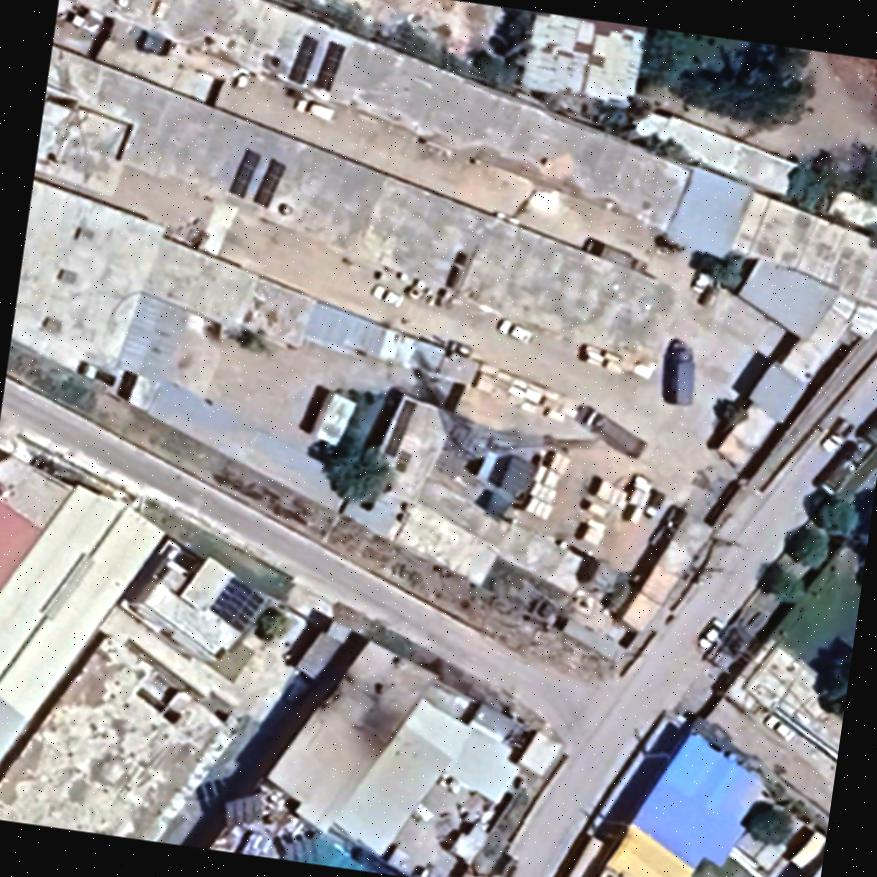Solarpanel: (201, 568, 271, 638), (247, 147, 290, 220), (306, 33, 348, 102), (280, 26, 322, 93), (222, 138, 259, 202)
